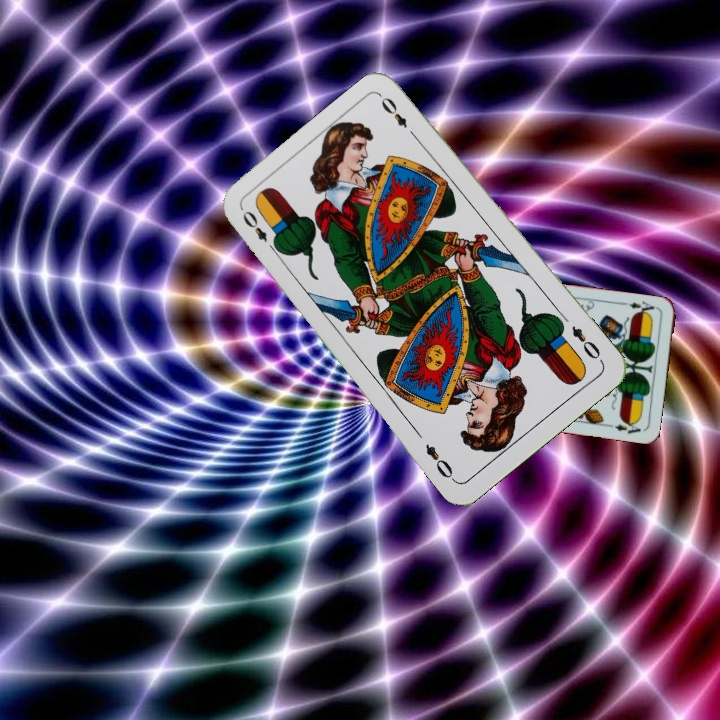EA: (619, 297, 660, 318)
EO: (238, 206, 281, 256), (567, 321, 603, 362)
